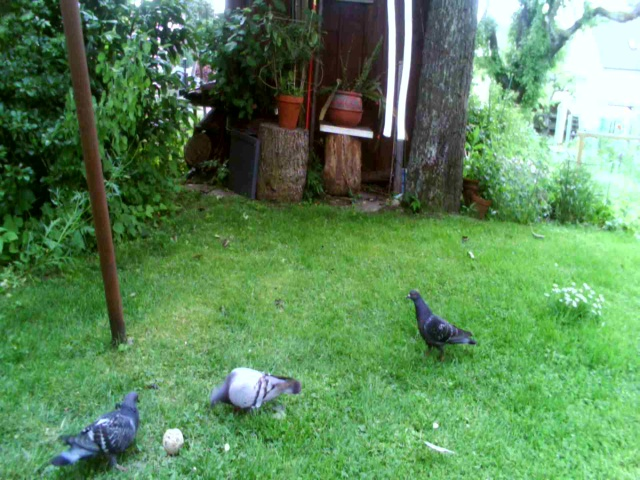Pigeon: (37, 388, 150, 478), (203, 357, 312, 428), (402, 283, 478, 368)
